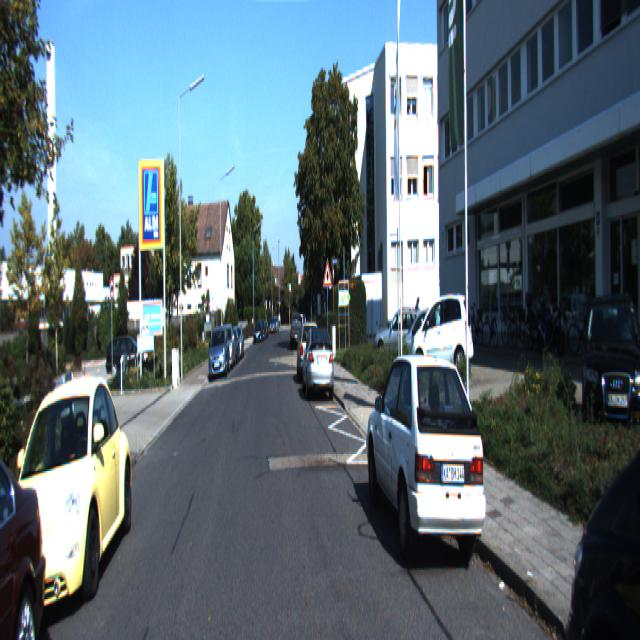Car: (0, 366, 133, 639), (364, 341, 491, 582), (409, 291, 476, 385), (392, 303, 453, 376), (372, 306, 430, 368), (301, 323, 335, 402), (296, 319, 321, 388), (208, 325, 230, 380), (290, 310, 302, 350)
